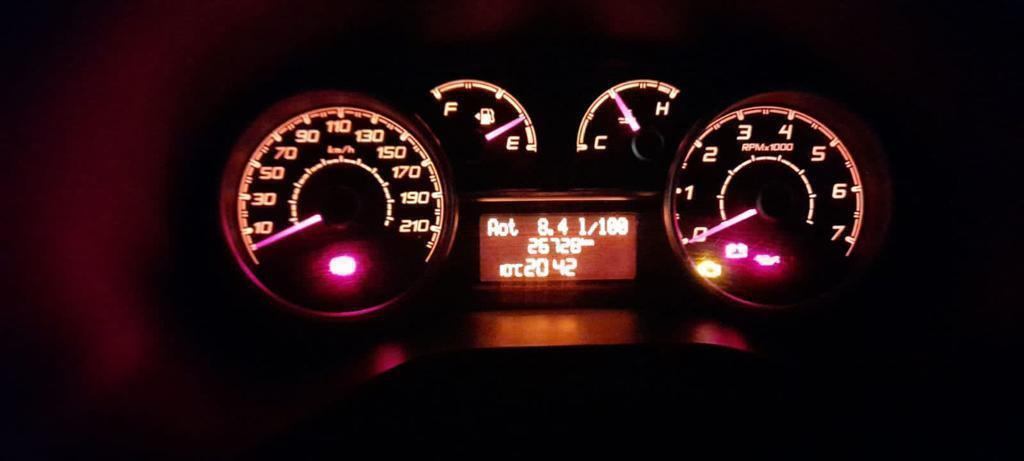,: (547, 227, 554, 236)
0: (536, 257, 549, 277), (606, 216, 618, 235), (617, 216, 628, 235), (503, 263, 512, 277)
1: (598, 217, 606, 235), (499, 263, 504, 277)
2: (523, 257, 536, 277), (565, 257, 577, 276), (527, 237, 538, 254), (560, 237, 570, 254)
4: (552, 259, 565, 276), (557, 217, 569, 235)
6: (538, 237, 549, 254)
7: (550, 237, 560, 253)
8: (537, 217, 548, 236), (570, 237, 581, 254)
X: (486, 217, 498, 237), (508, 217, 519, 237), (587, 221, 598, 235), (578, 217, 586, 236), (498, 222, 508, 236), (514, 263, 523, 277), (587, 238, 595, 246), (582, 237, 586, 246)
odometer: (477, 210, 640, 283)
